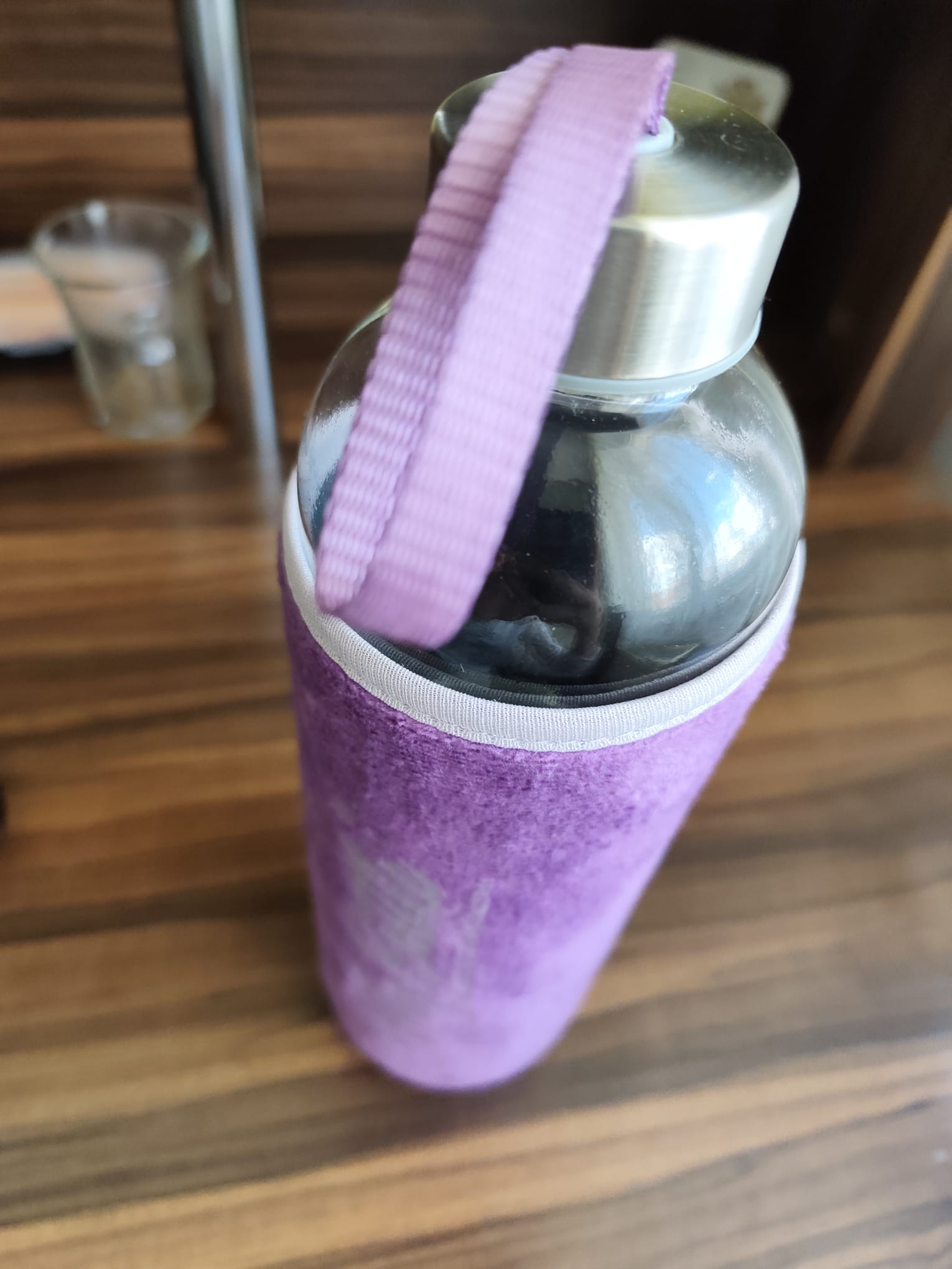su_sisesi: (264, 32, 819, 1158)
